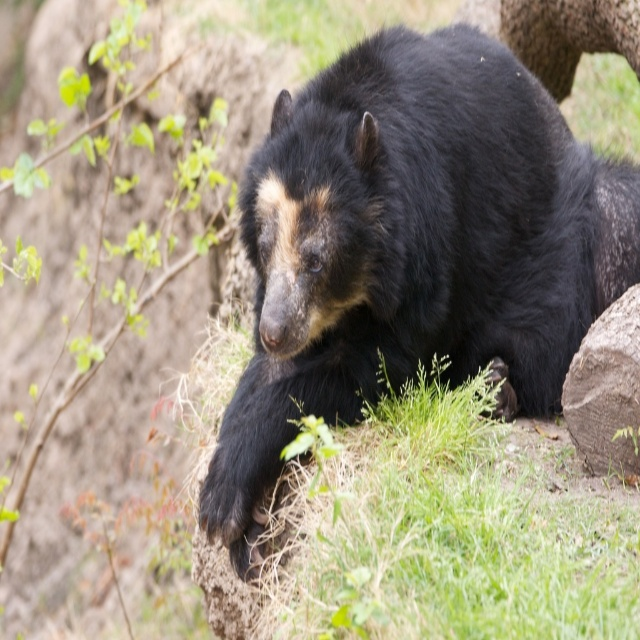Bear: (197, 11, 640, 585)
